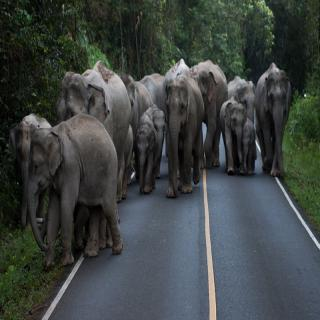Elephant: (24, 111, 129, 272), (160, 72, 204, 208), (253, 60, 293, 183), (7, 105, 43, 233), (133, 103, 161, 201), (219, 98, 246, 176), (240, 110, 257, 182)
